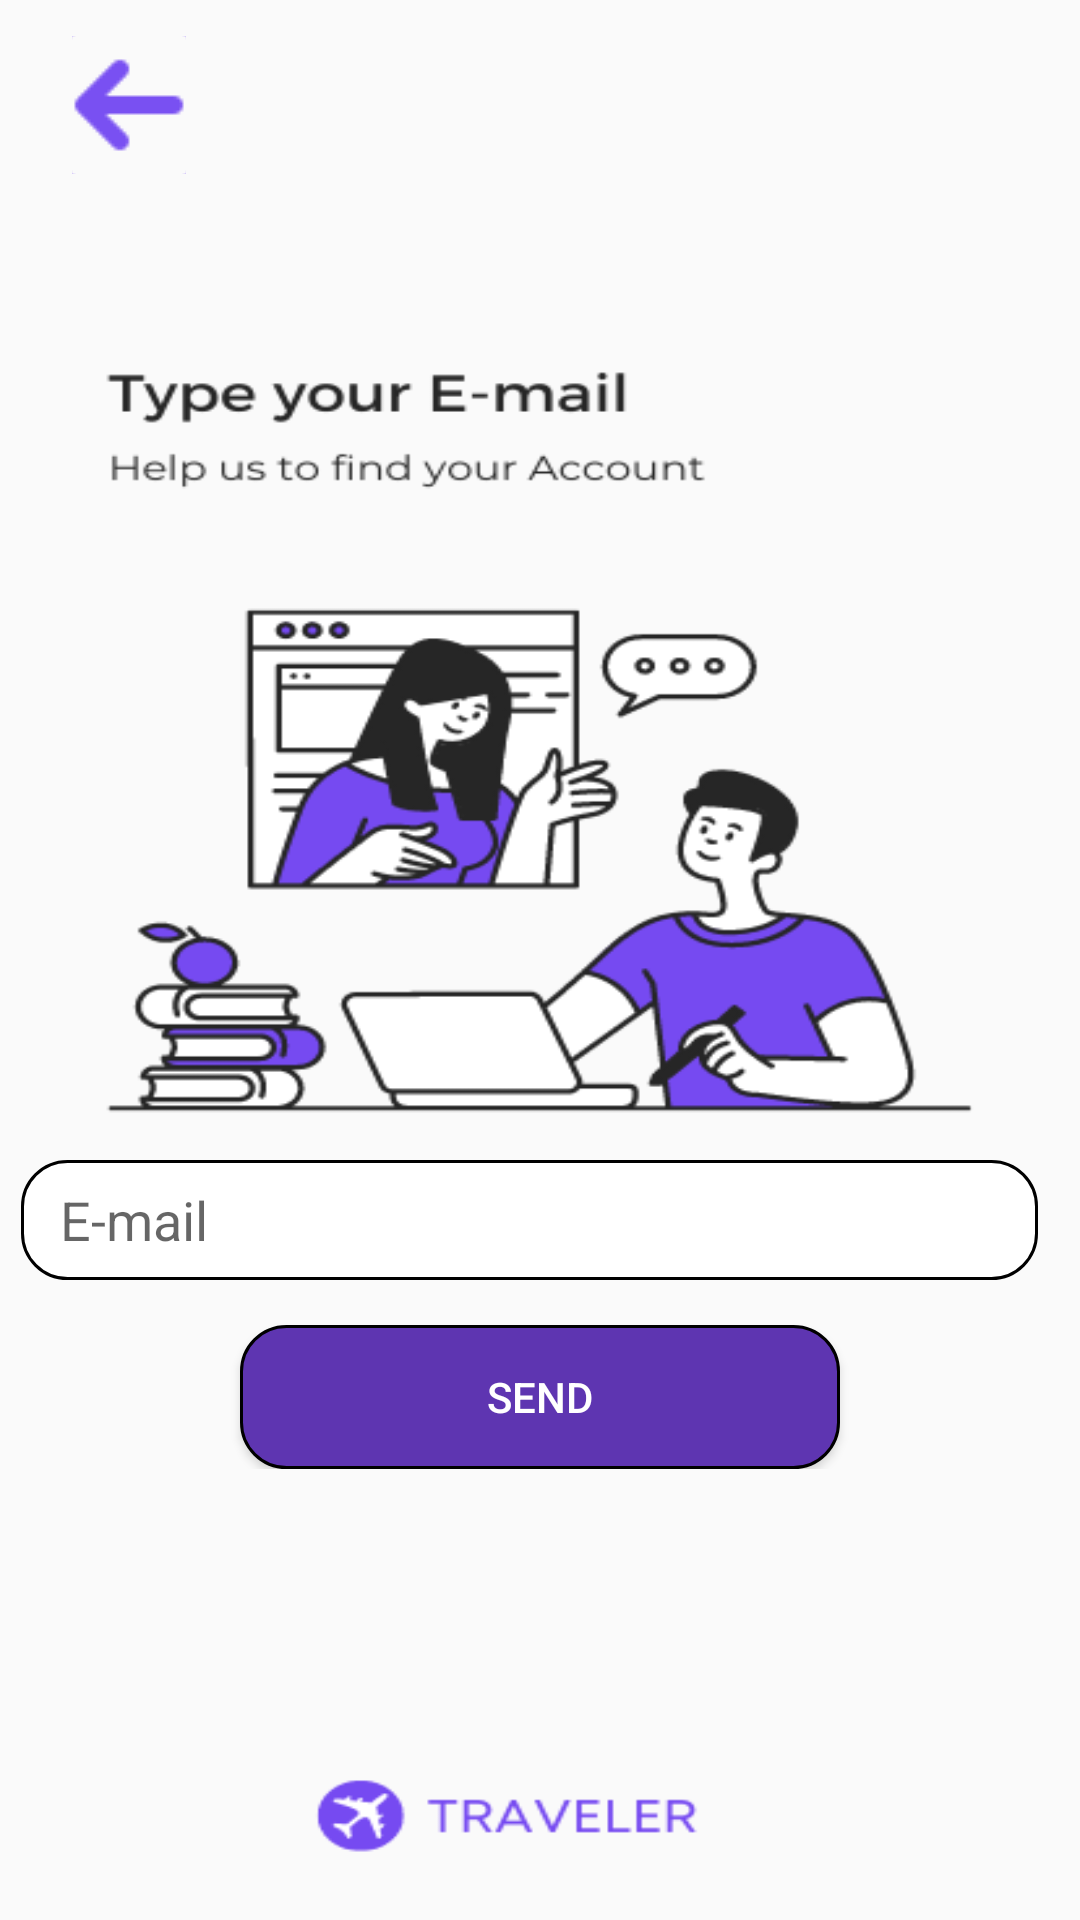

Icons on this 1080w x 1920h Android screen, each with the point to tap as (x,y):
back: (129,105)
